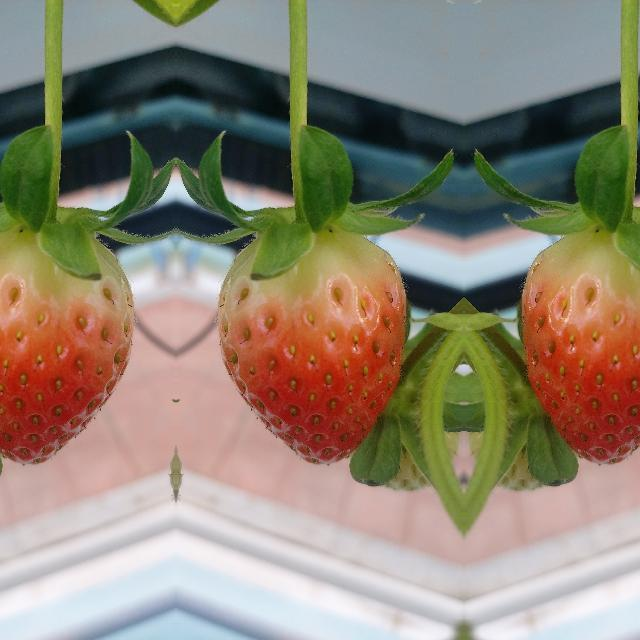Health_100: (218, 228, 404, 464), (0, 228, 132, 464), (522, 228, 640, 464)
